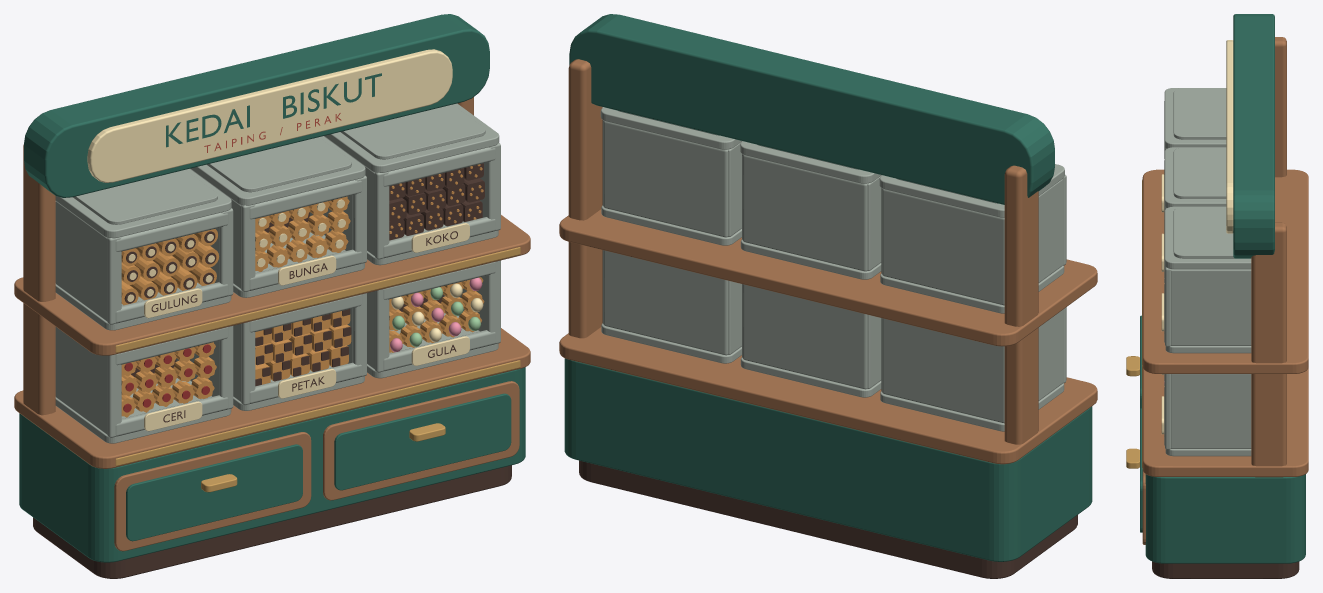
3 views of the same model, side by side, from view 1: azimuth 30°, elevation 25°; view 2: azimuth 150°, elevation 25°; view 3: azimuth 270°, elevation 25° (orthographic). The views are drawn at different scales.
Visible parts, largest first — view 1: Kedai Biskut | Taiping - Shop tins, Kedai Biskut | Taiping - Cabinet, Kedai Biskut | Taiping - Cabinetry, Kedai Biskut | Taiping - Biscuits, Kedai Biskut | Taiping - Graphics; view 2: Kedai Biskut | Taiping - Cabinetry, Kedai Biskut | Taiping - Shop tins, Kedai Biskut | Taiping - Cabinet; view 3: Kedai Biskut | Taiping - Cabinetry, Kedai Biskut | Taiping - Shop tins, Kedai Biskut | Taiping - Cabinet, Kedai Biskut | Taiping - Graphics.
Part boxes in pixels (bbox=[...]): Kedai Biskut | Taiping - Shop tins: bbox=[55, 103, 500, 443]; Kedai Biskut | Taiping - Cabinet: bbox=[23, 14, 520, 551]; Kedai Biskut | Taiping - Cabinetry: bbox=[14, 215, 530, 578]; Kedai Biskut | Taiping - Biscuits: bbox=[121, 163, 484, 417]; Kedai Biskut | Taiping - Graphics: bbox=[87, 49, 469, 431]; Kedai Biskut | Taiping - Cabinetry: bbox=[559, 209, 1097, 578]; Kedai Biskut | Taiping - Shop tins: bbox=[600, 107, 1066, 431]; Kedai Biskut | Taiping - Cabinet: bbox=[568, 14, 1054, 444]; Kedai Biskut | Taiping - Cabinetry: bbox=[1126, 169, 1308, 578]; Kedai Biskut | Taiping - Shop tins: bbox=[1164, 88, 1251, 456]; Kedai Biskut | Taiping - Cabinet: bbox=[1140, 14, 1286, 544]; Kedai Biskut | Taiping - Graphics: bbox=[1161, 40, 1233, 434].
Bounding box in the file's own units: 2.48 × 2.25 × 0.9675.
